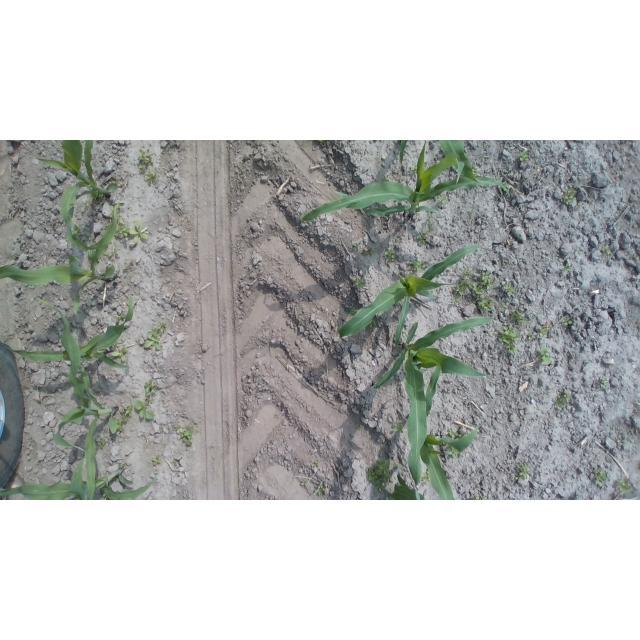Maize: (374, 317, 495, 499), (298, 141, 514, 222), (36, 297, 121, 500), (337, 243, 482, 354), (408, 364, 482, 501), (2, 295, 134, 370), (36, 140, 119, 249), (1, 248, 118, 317), (0, 456, 158, 501), (437, 141, 497, 184), (390, 464, 425, 500), (398, 140, 408, 164), (466, 498, 478, 500)
Weeds: (366, 458, 391, 495), (496, 326, 523, 359), (174, 417, 198, 448), (145, 322, 167, 350), (134, 396, 157, 420), (453, 267, 472, 295), (510, 307, 535, 328), (128, 220, 149, 243), (616, 476, 634, 497), (554, 390, 572, 408), (482, 270, 498, 290), (476, 298, 496, 313), (516, 463, 533, 480), (416, 227, 431, 246), (561, 185, 575, 205), (408, 258, 429, 271), (144, 169, 159, 186), (137, 149, 154, 164), (539, 343, 550, 365), (119, 406, 133, 423), (144, 378, 158, 395), (383, 249, 397, 263), (473, 281, 486, 296), (113, 348, 128, 361), (109, 202, 122, 217), (595, 467, 606, 484), (351, 277, 365, 290), (501, 281, 515, 294), (448, 426, 462, 439), (538, 324, 548, 340), (80, 200, 91, 214), (599, 375, 609, 390), (151, 453, 161, 467), (116, 225, 128, 236), (521, 150, 531, 163), (395, 423, 406, 434), (428, 215, 436, 230), (420, 472, 430, 484), (73, 224, 83, 236), (344, 307, 357, 315), (363, 246, 376, 254), (451, 297, 461, 307), (449, 449, 459, 459), (98, 439, 107, 450), (107, 248, 118, 257), (352, 243, 361, 253), (563, 262, 569, 276), (438, 195, 447, 204), (315, 486, 323, 496), (602, 244, 611, 252), (138, 164, 146, 173), (562, 318, 572, 325), (118, 421, 125, 431), (504, 181, 512, 189), (314, 459, 321, 468), (89, 238, 96, 247), (383, 175, 391, 182), (356, 423, 364, 430), (369, 321, 378, 327), (472, 167, 478, 176), (171, 458, 177, 467), (301, 480, 308, 487), (482, 155, 488, 163), (411, 163, 417, 171), (528, 332, 534, 340), (118, 217, 125, 223), (105, 219, 111, 226), (617, 438, 627, 442), (118, 315, 126, 320), (477, 496, 486, 500), (575, 203, 582, 208), (121, 464, 126, 469), (99, 194, 104, 199), (112, 343, 116, 347), (319, 140, 326, 142)
